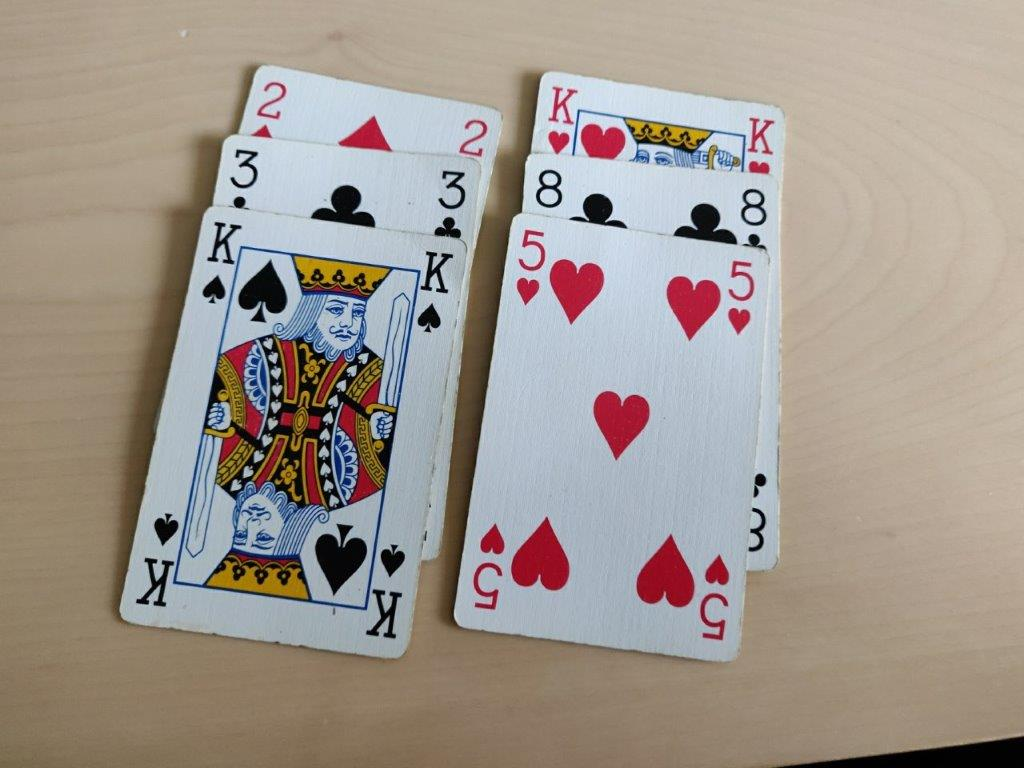2D: (239, 72, 287, 141)
3C: (217, 144, 269, 215), (422, 169, 474, 240)
5H: (512, 223, 547, 309), (722, 255, 757, 341)
8C: (737, 183, 771, 256)
KH: (542, 80, 579, 159), (740, 108, 776, 180)
KS: (194, 213, 245, 311), (408, 245, 459, 343)
